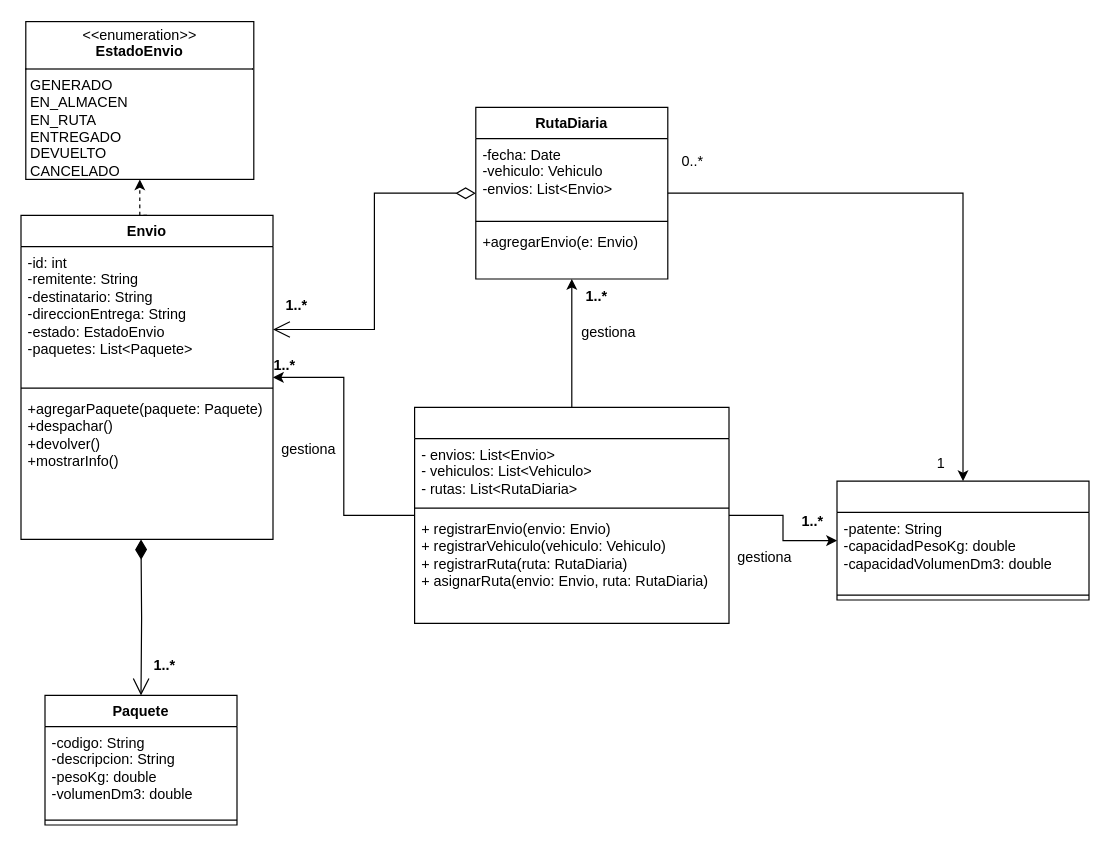
Image size: 1110x846. Some labels were removed from this diagram. The shapes that lost their labels are listed below. From the top down, each one's box as (x1, y1, x2, y2) in pixels, then its label:
(413, 406, 729, 623): ManagerEnvios
(836, 480, 1089, 600): Vehiculo
